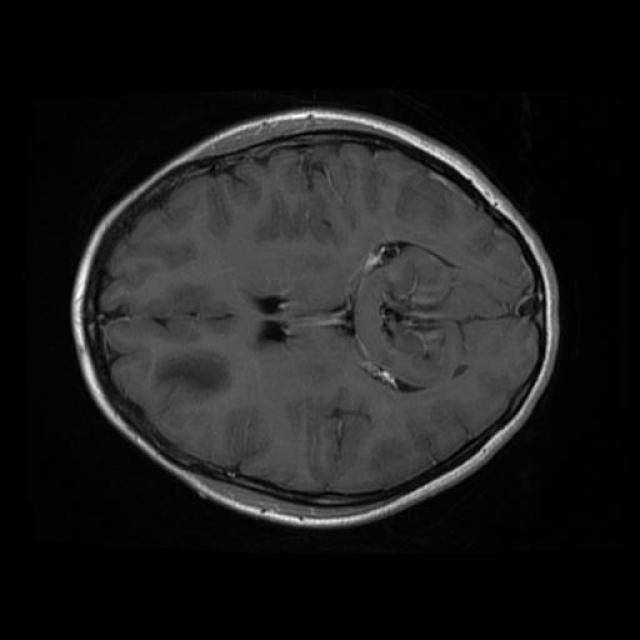Glioma: (158, 354, 227, 392)
